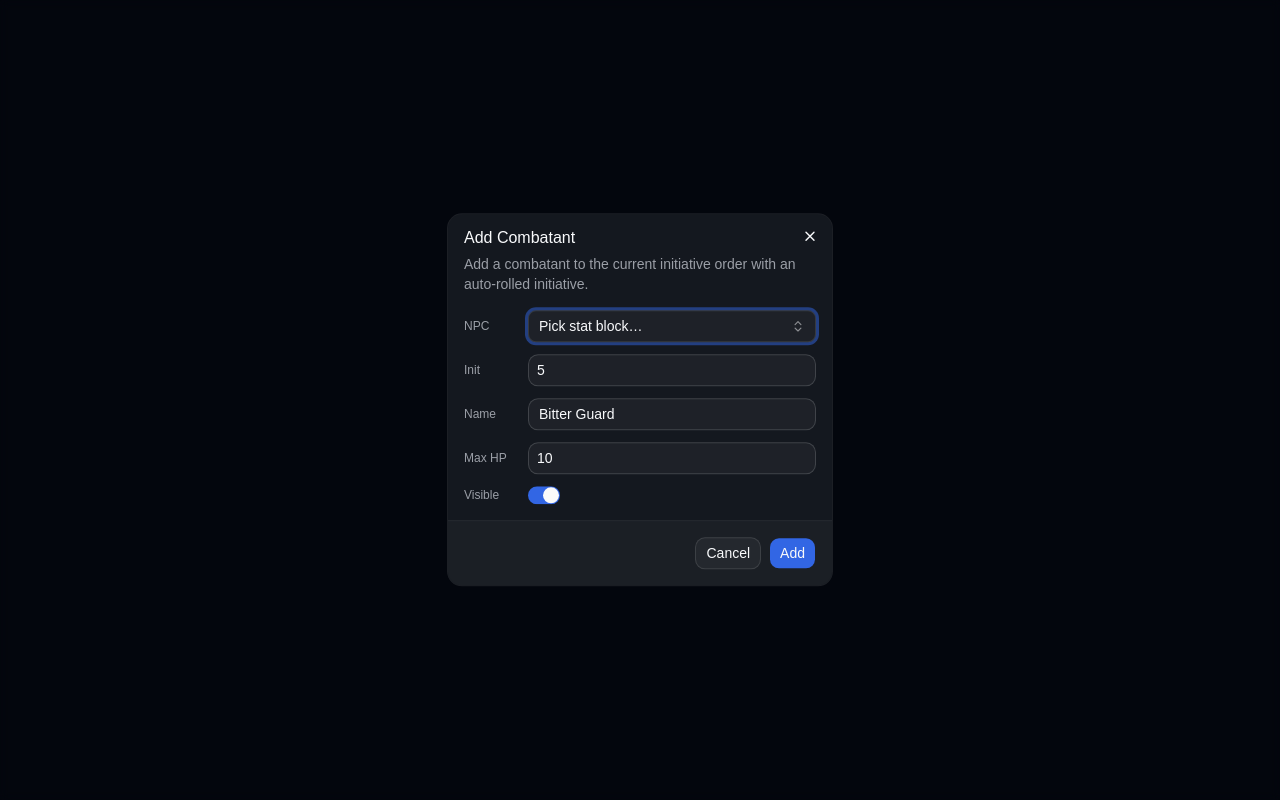
Test: AddCombatantDialog › Add button is disabled when name is empty
Clear the field at (672, 414), box x1=528 y1=398 x2=816 y2=430
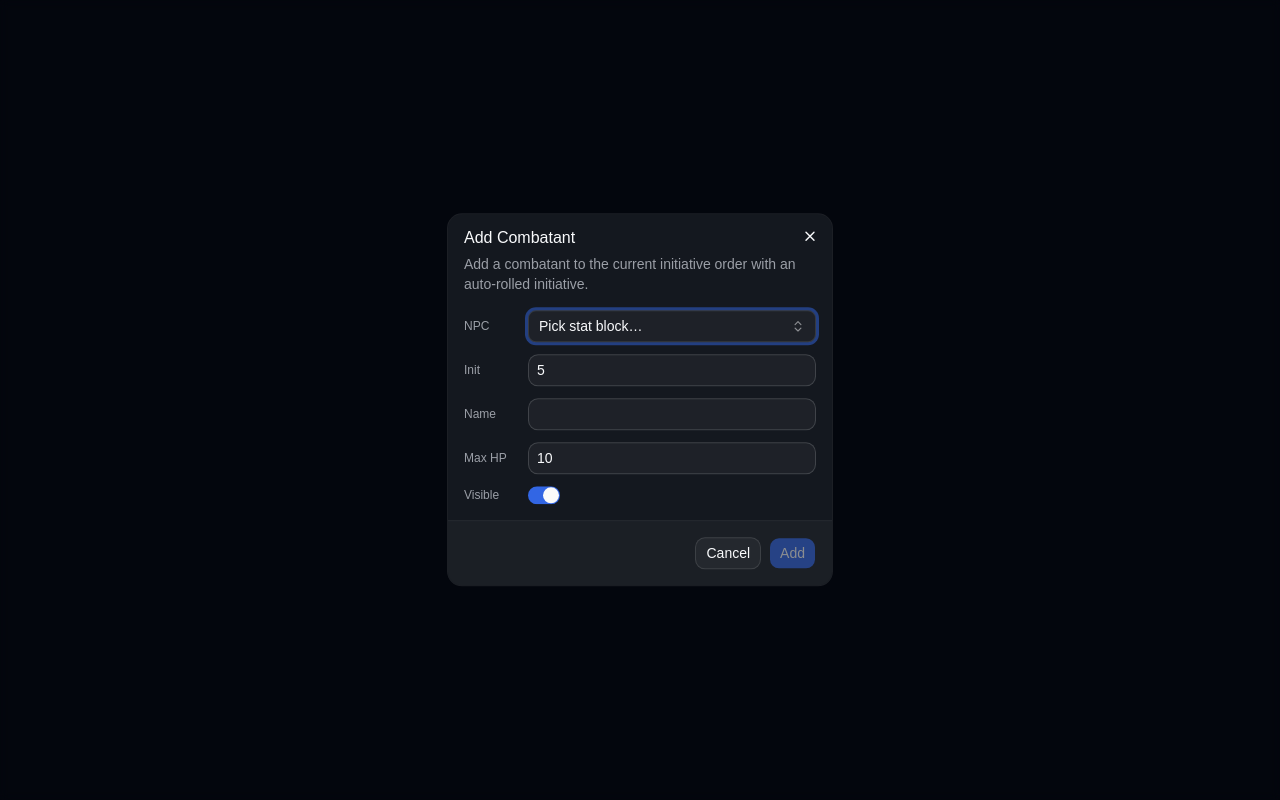
Result: the button "Add" is disabled at x1=769 y1=538 x2=816 y2=570
